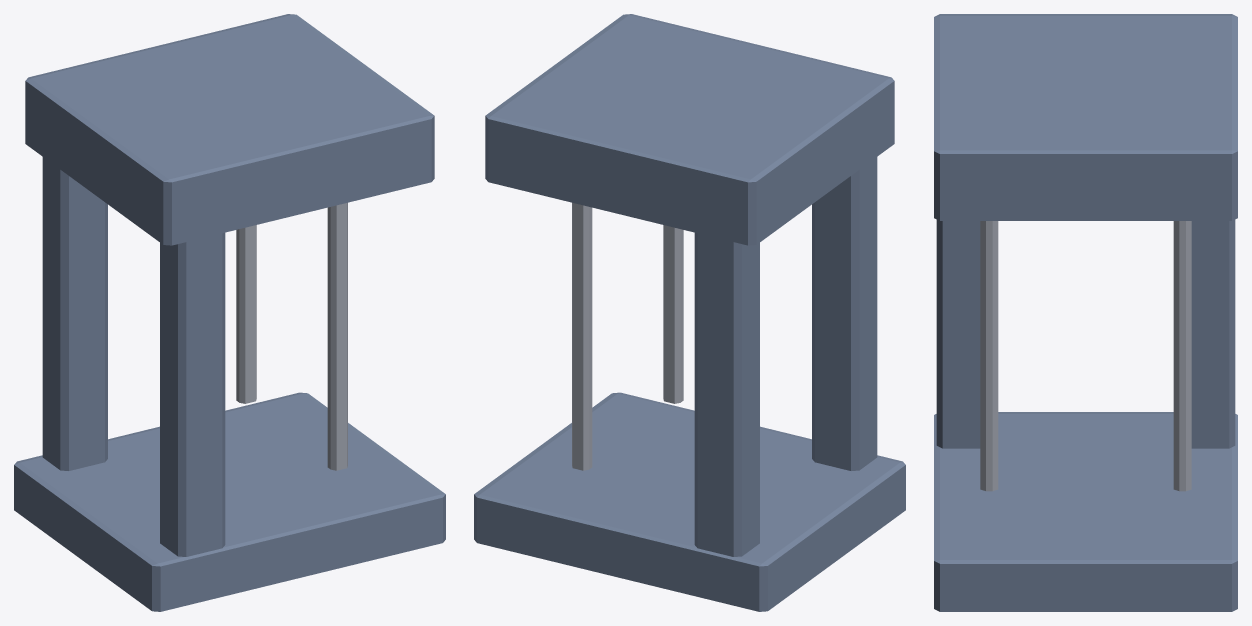
Rendered from pres.glb.
The picture shows the model from 3 angles, left to right: view 1: azimuth 30°, elevation 25°; view 2: azimuth 150°, elevation 25°; view 3: azimuth 270°, elevation 25°; orthographic projection. The views are drawn at different scales.
Parts seen in each view (by area): view 1: Pres; view 2: Pres; view 3: Pres.
Part boxes in pixels (bbox=[...]): Pres: bbox=[14, 14, 445, 611]; Pres: bbox=[474, 14, 905, 611]; Pres: bbox=[934, 14, 1237, 611].
Size of the model in its own units: 2.6 by 3.63 by 2.2.
